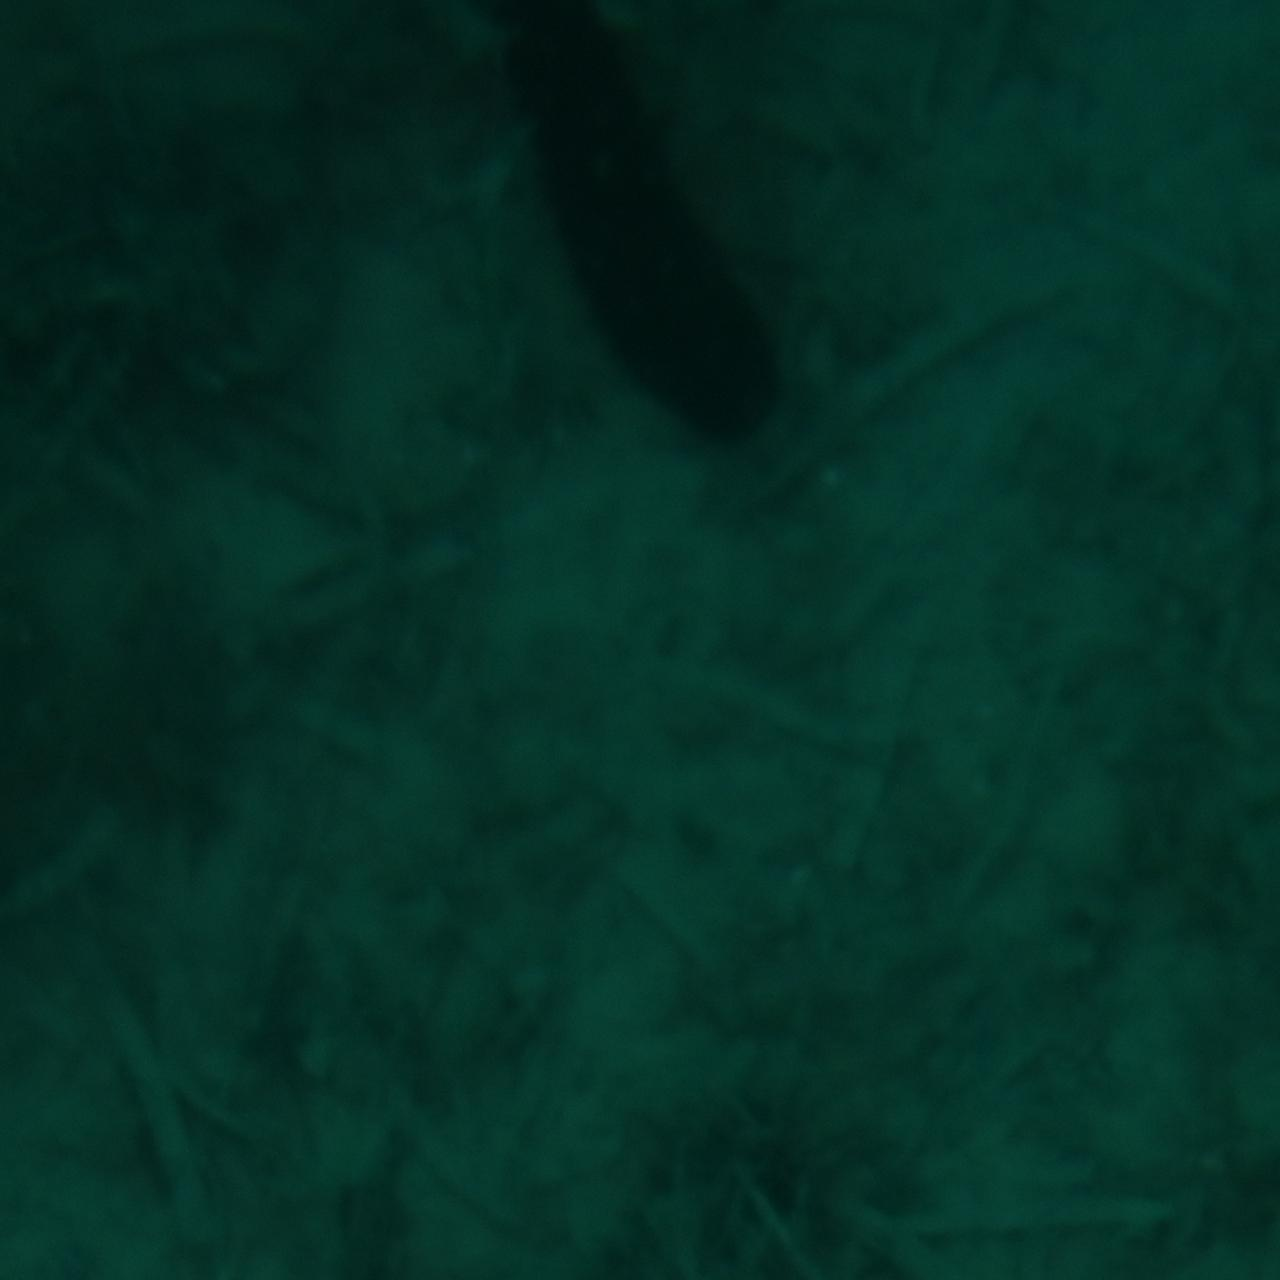Holothuria tubulosa: (489, 0, 791, 452)
